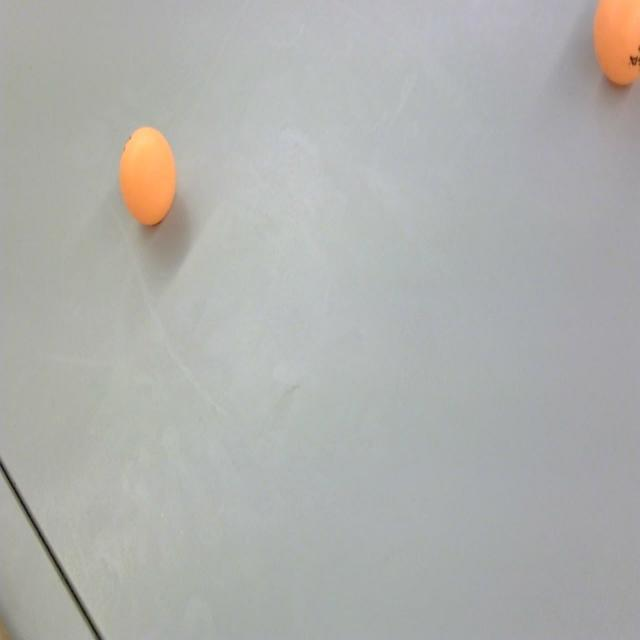ball: (118, 125, 178, 232), (592, 0, 640, 93)
